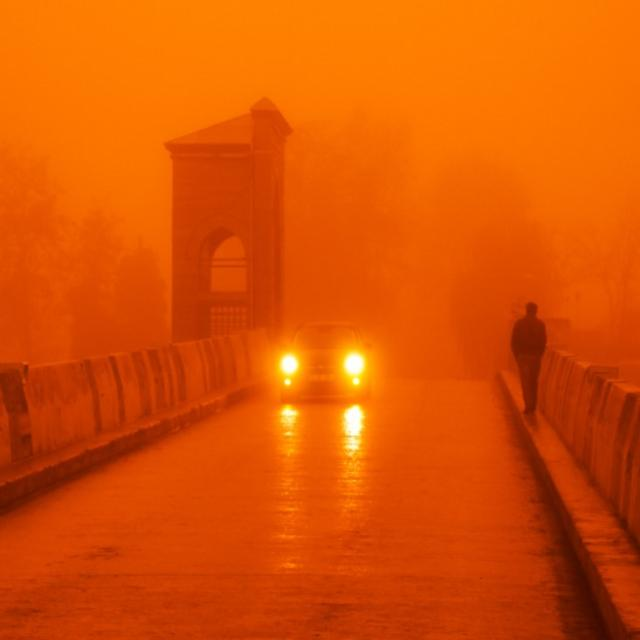car: (277, 317, 374, 403)
